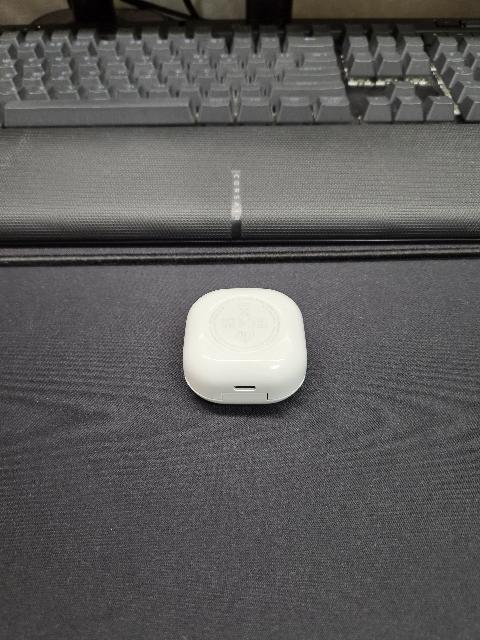earphone_case: (182, 289, 307, 405)
